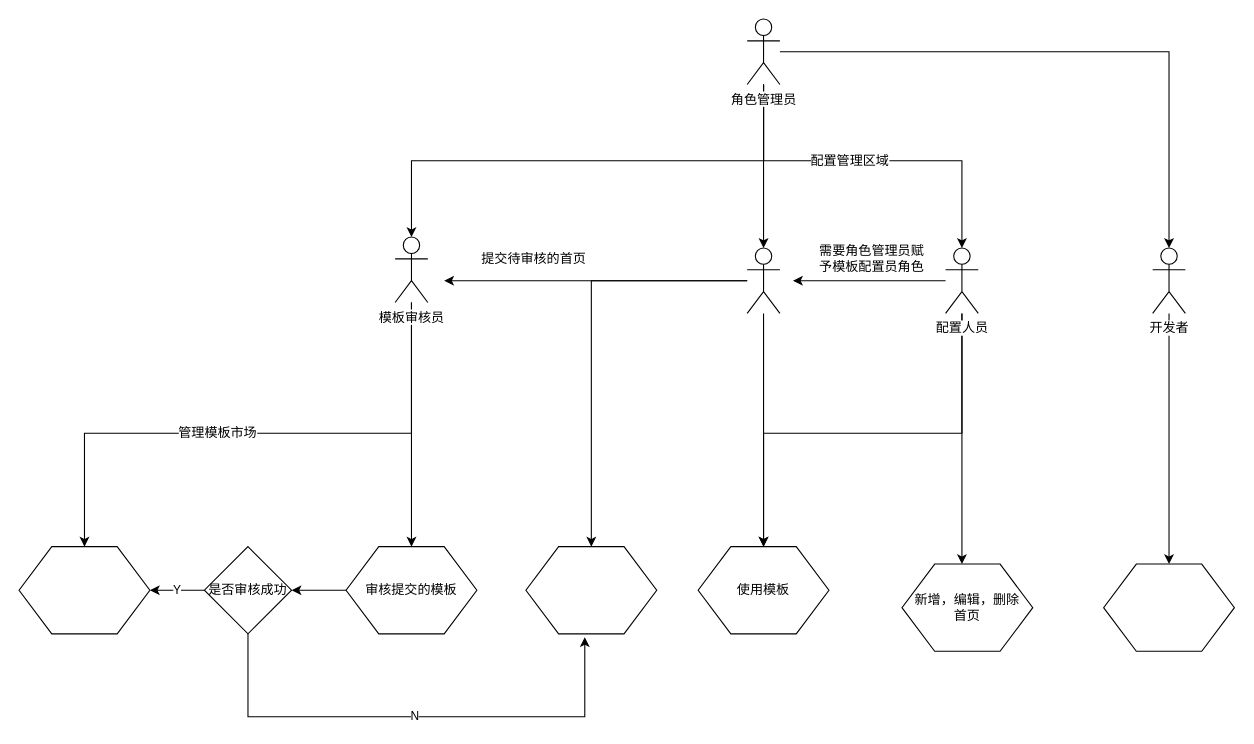
Some shapes in this 1254 by 744 pixel diagram are drawn without their labels. Each missing label, with the centre of its shape:
"创建，编辑，删除 未提交审核的首页" belongs at pixel 591 590.
"开发，发布组件" belongs at pixel 1168 607.
"模板市场" belongs at pixel 84 590.
"模板配置员" belongs at pixel 763 280.
